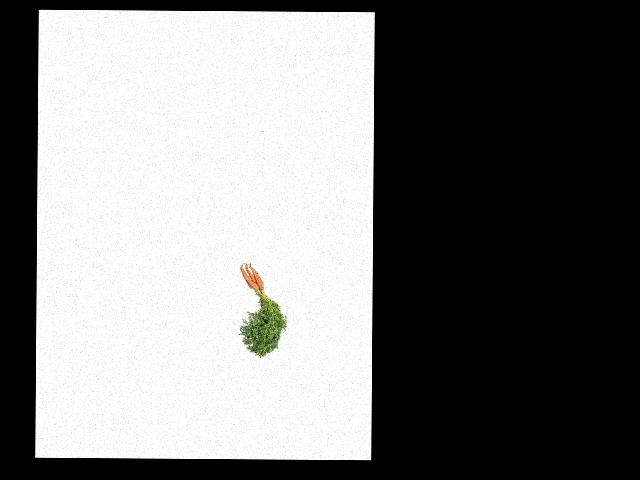carrot: (239, 267, 258, 293)
